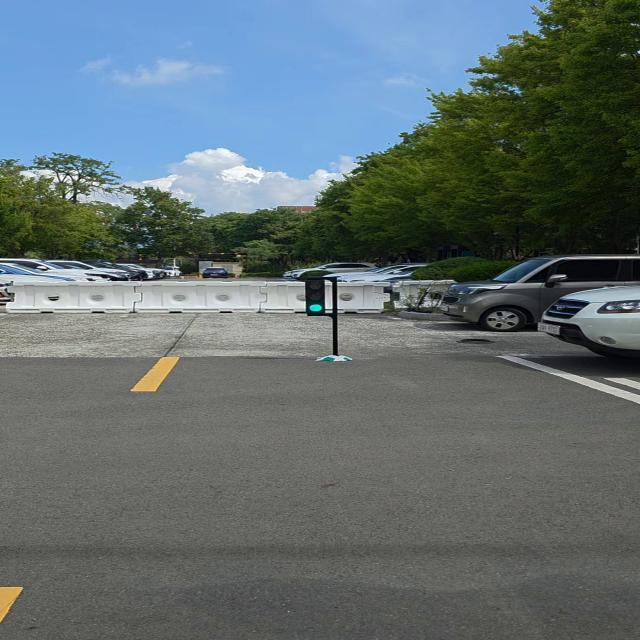green: (304, 275, 329, 316)
